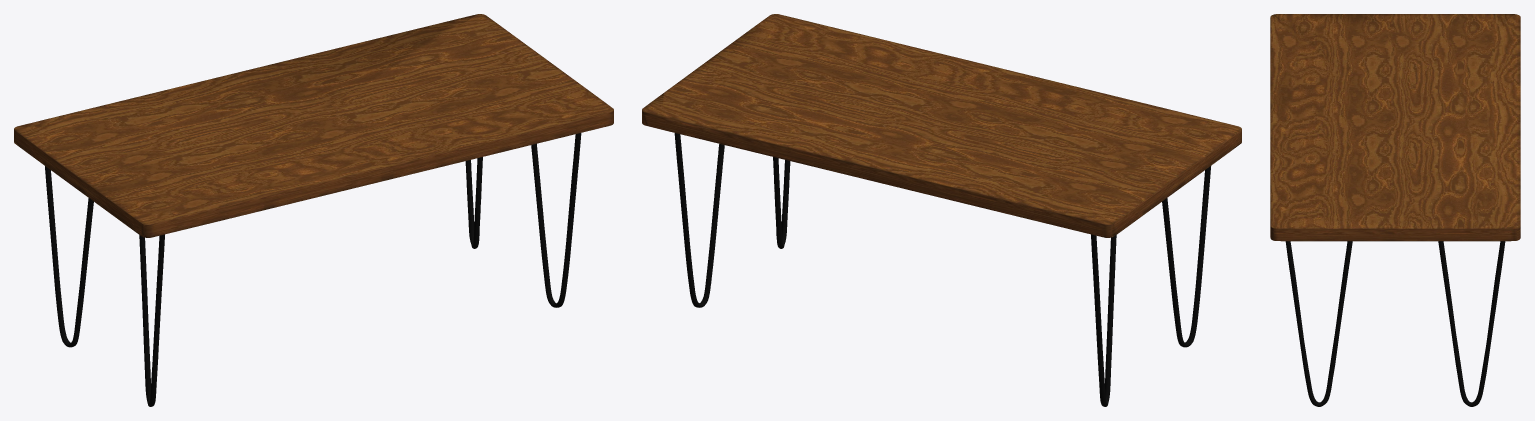
File: B075YPTG8S.glb
3 views of the same model, side by side, from view 1: azimuth 30°, elevation 25°; view 2: azimuth 150°, elevation 25°; view 3: azimuth 270°, elevation 25° (orthographic). The views are drawn at different scales.
Visible parts, largest first — view 1: RootNode; view 2: RootNode; view 3: RootNode.
Part boxes in pixels (x1,y1,x2,y2): RootNode: [14, 14, 613, 406]; RootNode: [642, 14, 1241, 406]; RootNode: [1270, 14, 1520, 406].
Bounding box in the file's own units: 1.79 × 0.7533 × 0.8826.
1 material, 1 textured.
